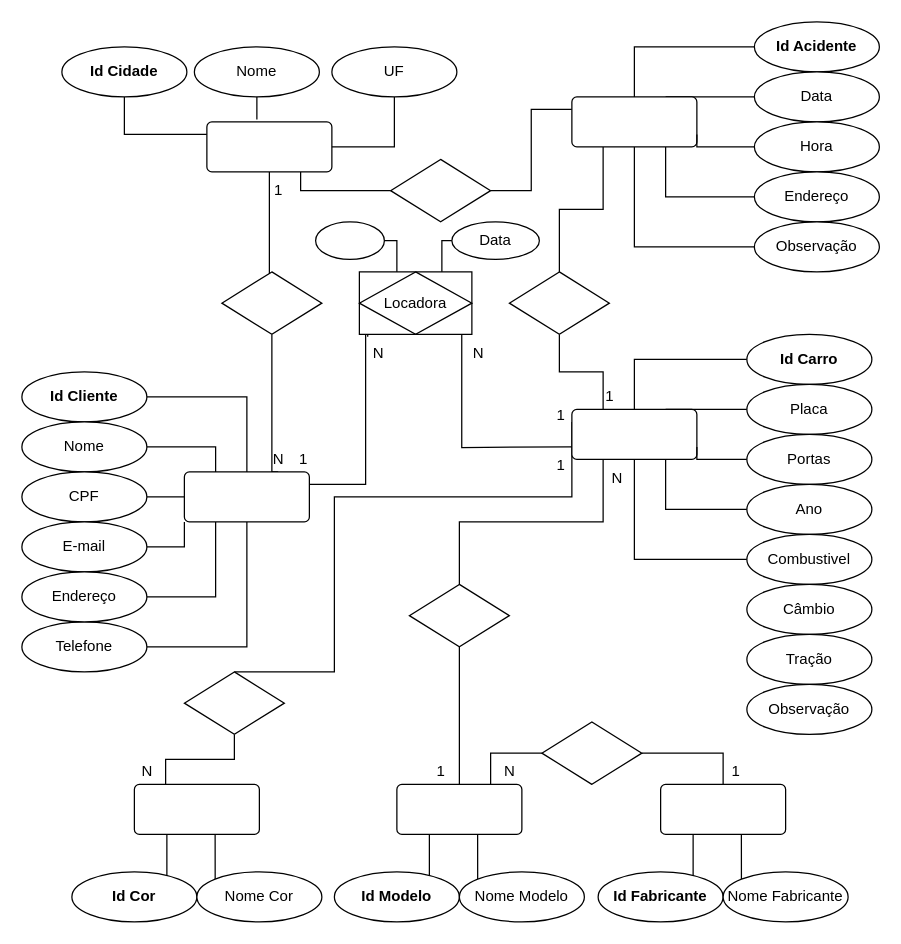
The diagram is 901 pixels wide and 944 high, and some of its shapes have lost their labels. Here are the shapes that lost their labels. From the top down, the centre of each, then its label:
the point at 634,121: Acidente
the point at 269,146: CIdade
the point at 349,240: Num. Contr.
the point at 634,433: Carros
the point at 246,496: Cliente
the point at 196,808: Cor
the point at 459,808: Modelo
the point at 722,808: Fabricante
